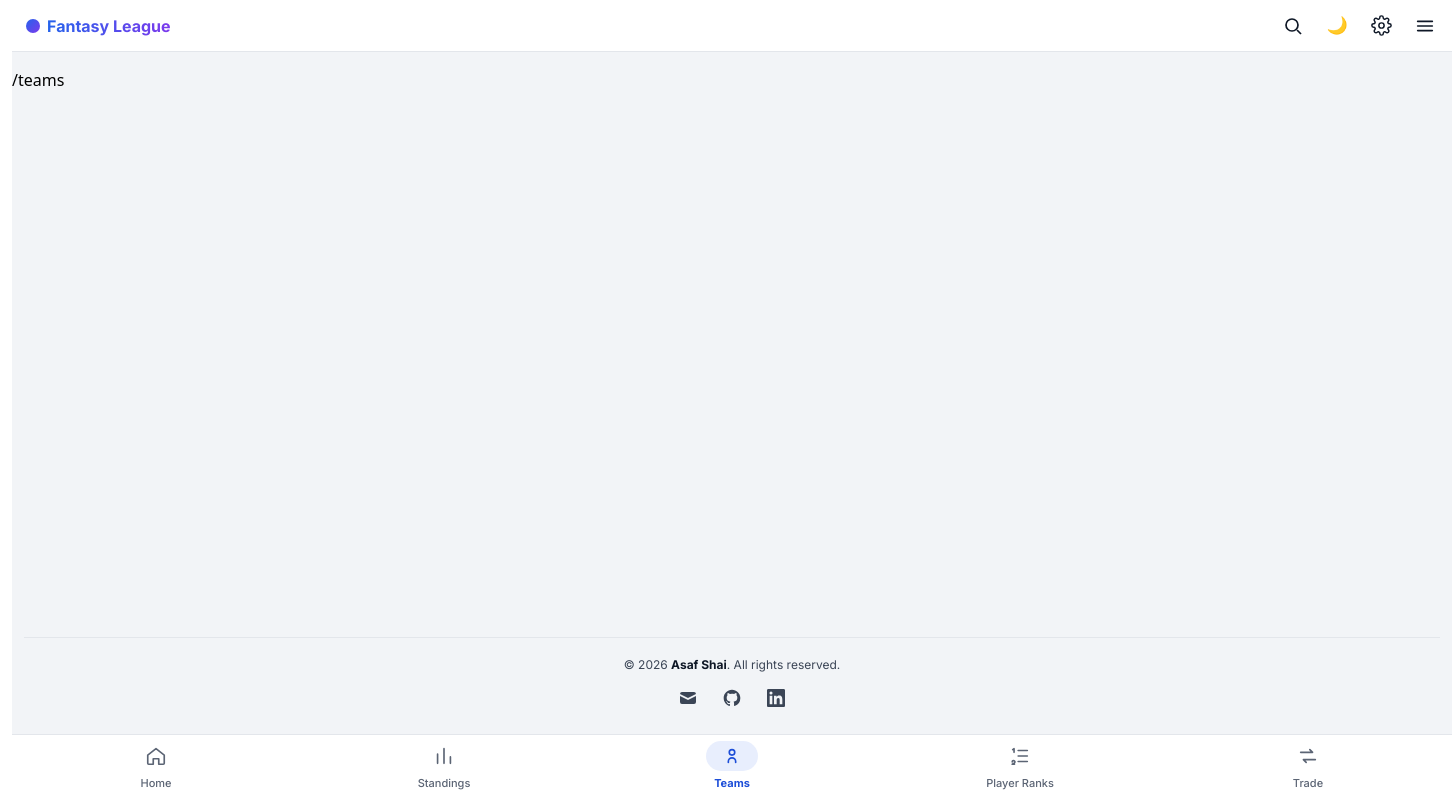
Test case: MobileShell › header: logo goes home, dark toggle flips the icon, footer has the social links
Step 1. Click the button named "Toggle dark mode" → click(1337, 26), box x1=1316 y1=4 x2=1358 y2=46
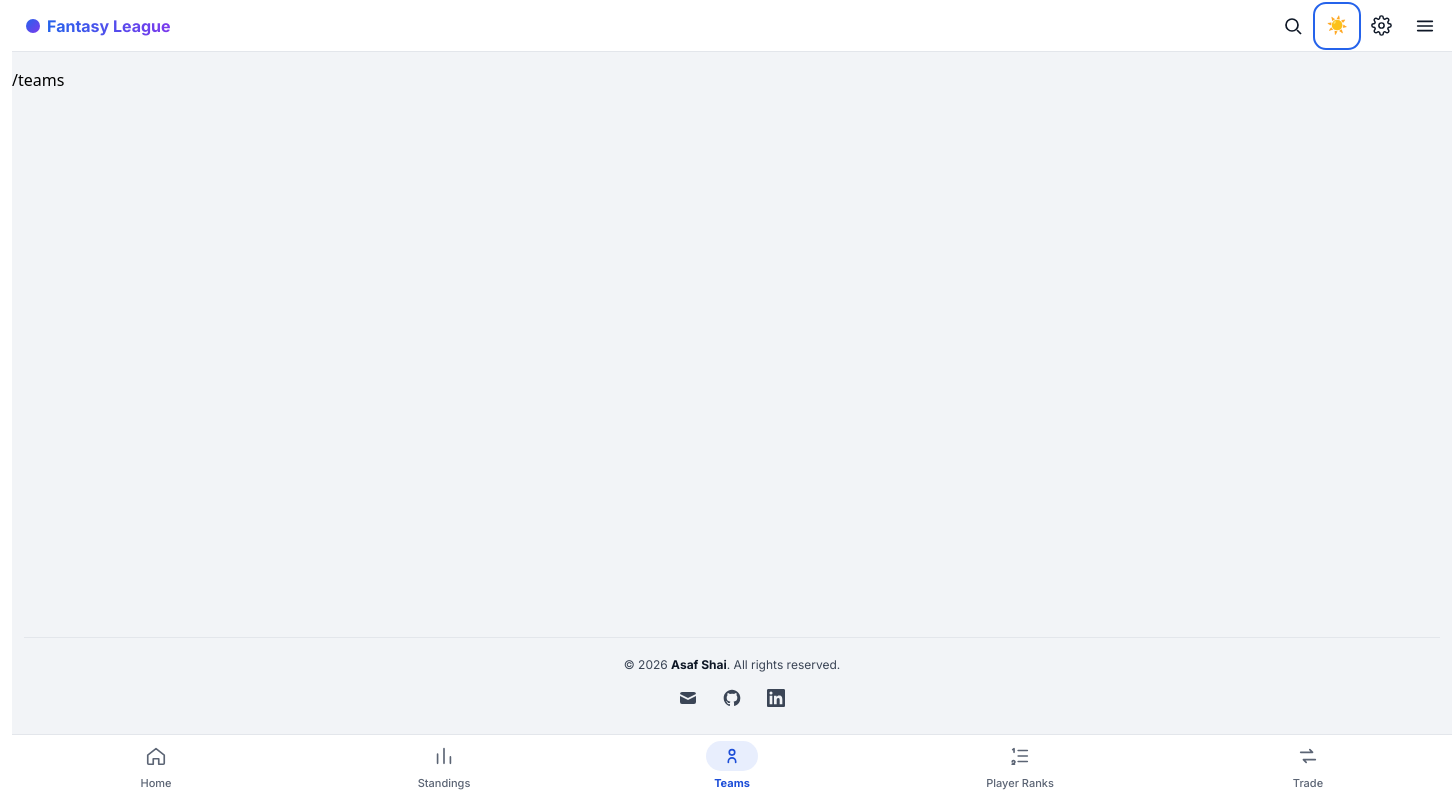
Expected: the link named "Email" is shown, x1=678 y1=688 x2=698 y2=708
Expected: the button named "Toggle dark mode" reads "☀️", x1=1316 y1=4 x2=1358 y2=46
